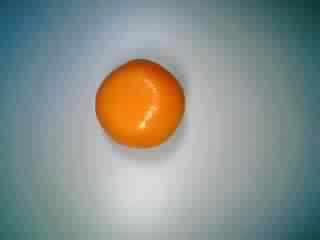orange: (92, 55, 190, 154)
